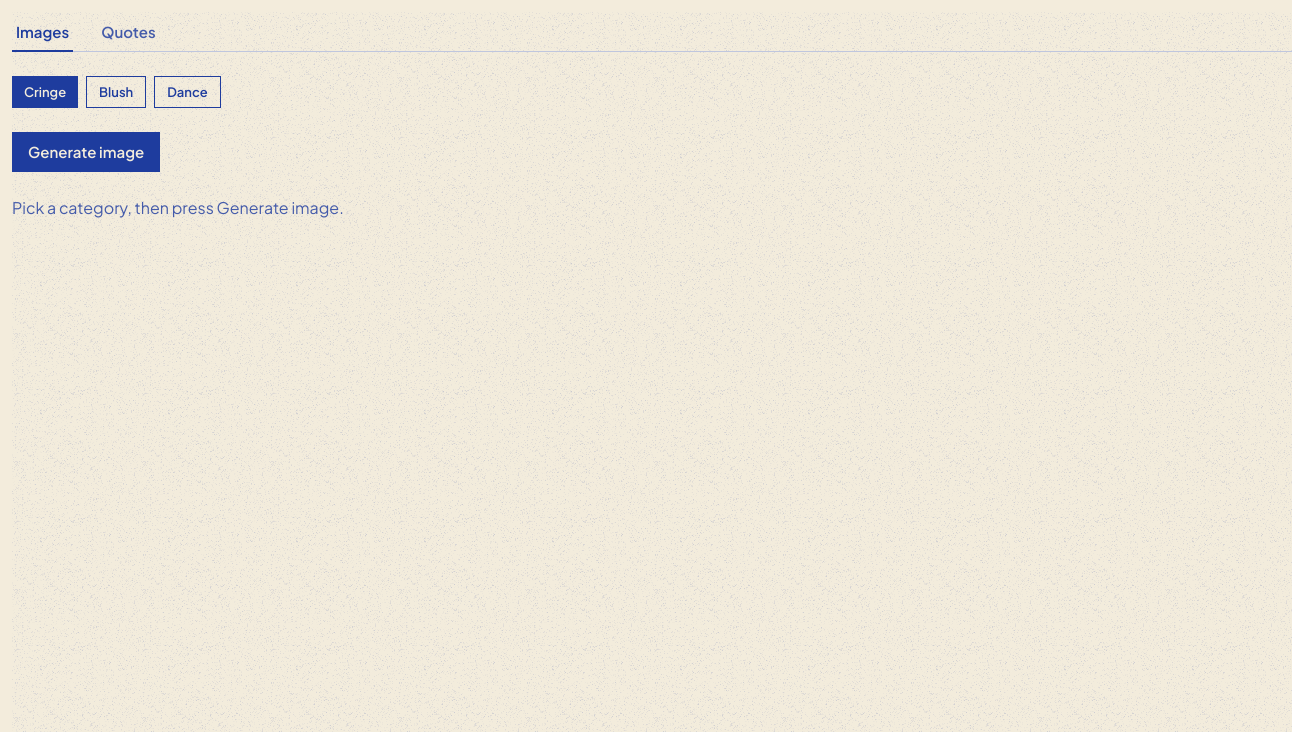
Scenario: AnimeGeneratorTab images › shows an inline error when the fetch fails, and no picture
Click the button "Generate image" at coordinates (86, 152), box [12,132,160,172]
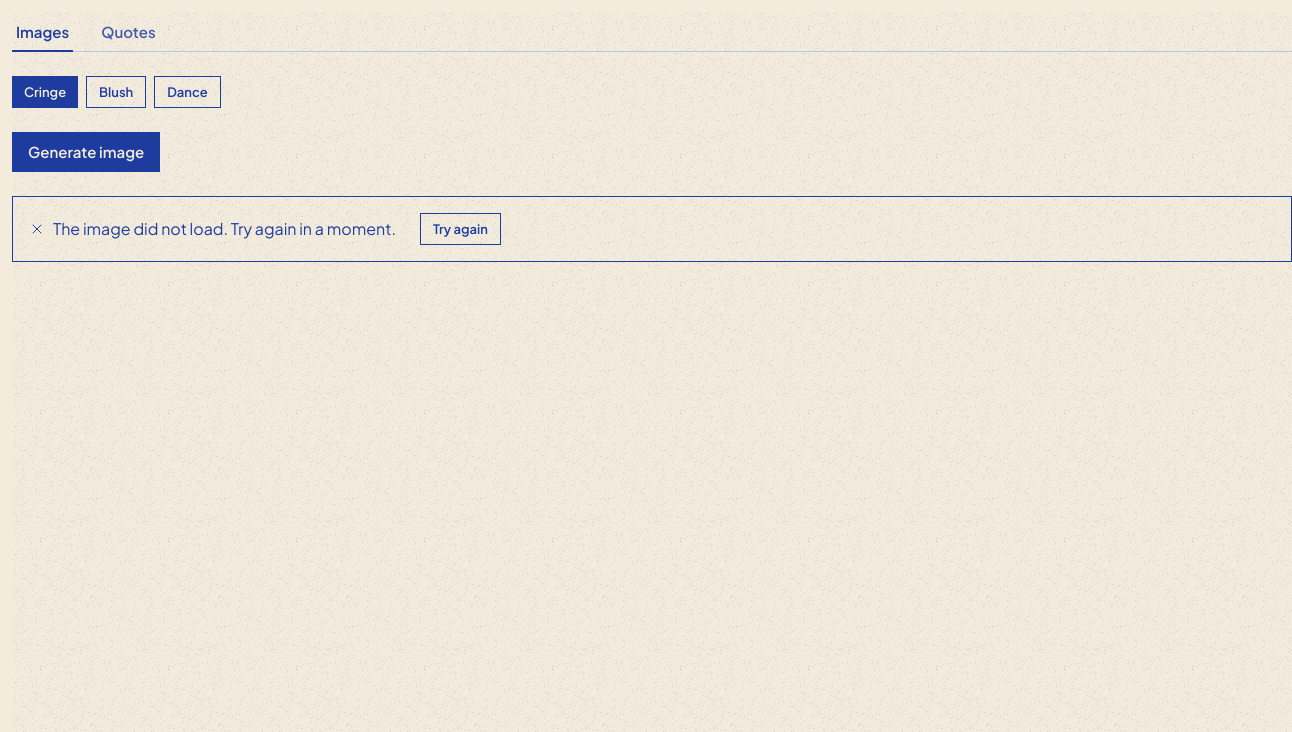
expect the message shows "did not load": met, box [53,218,396,239]
